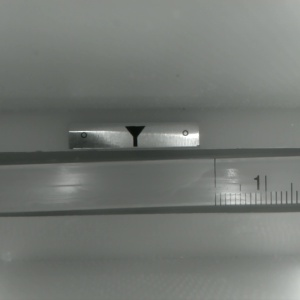1: (254, 175, 261, 190)
finger: (125, 127, 144, 144)
